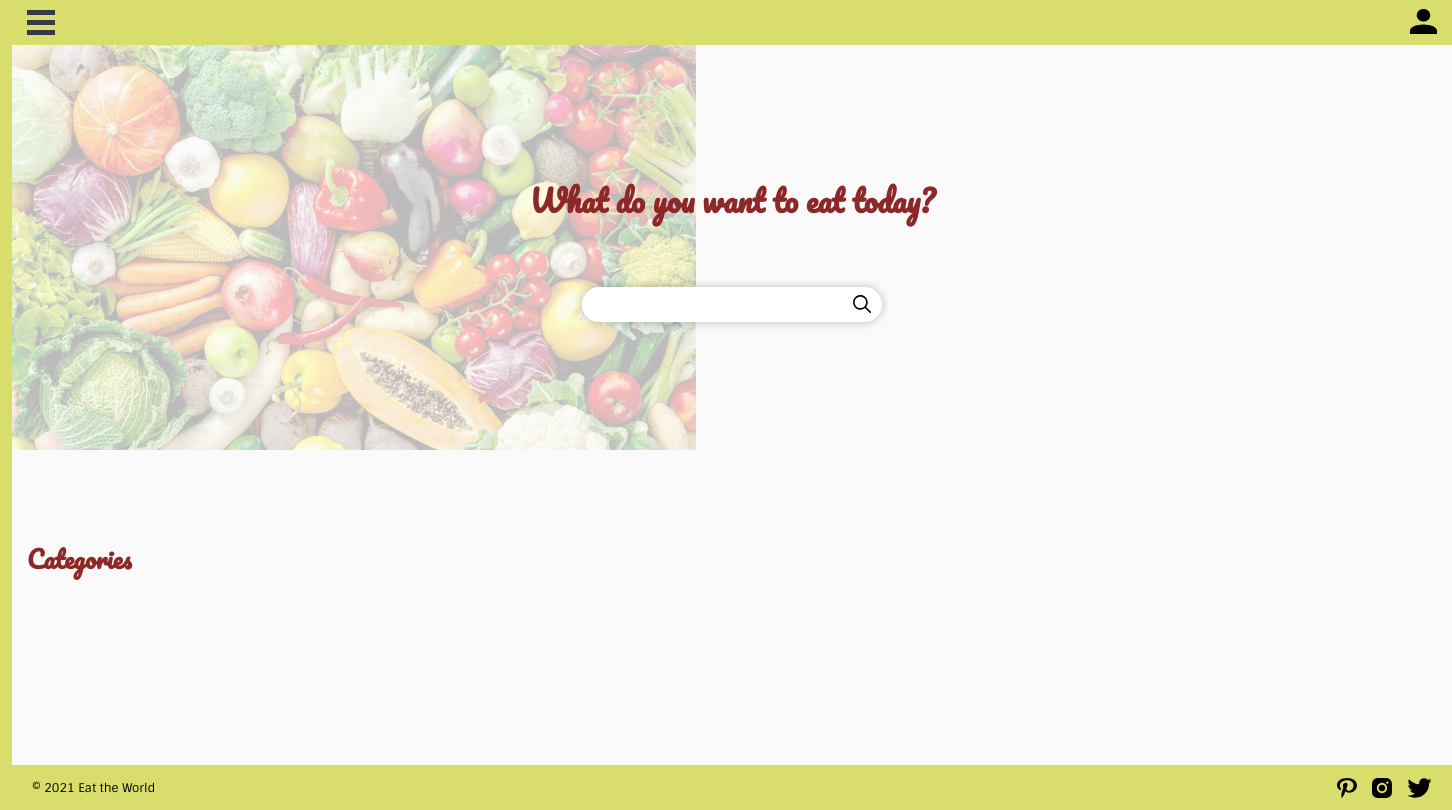
Test: Given the component Search › when a term is searched › then it should show search term
In the field: {"x": 712, "y": 304} [582,286,842,322], type "chicken"
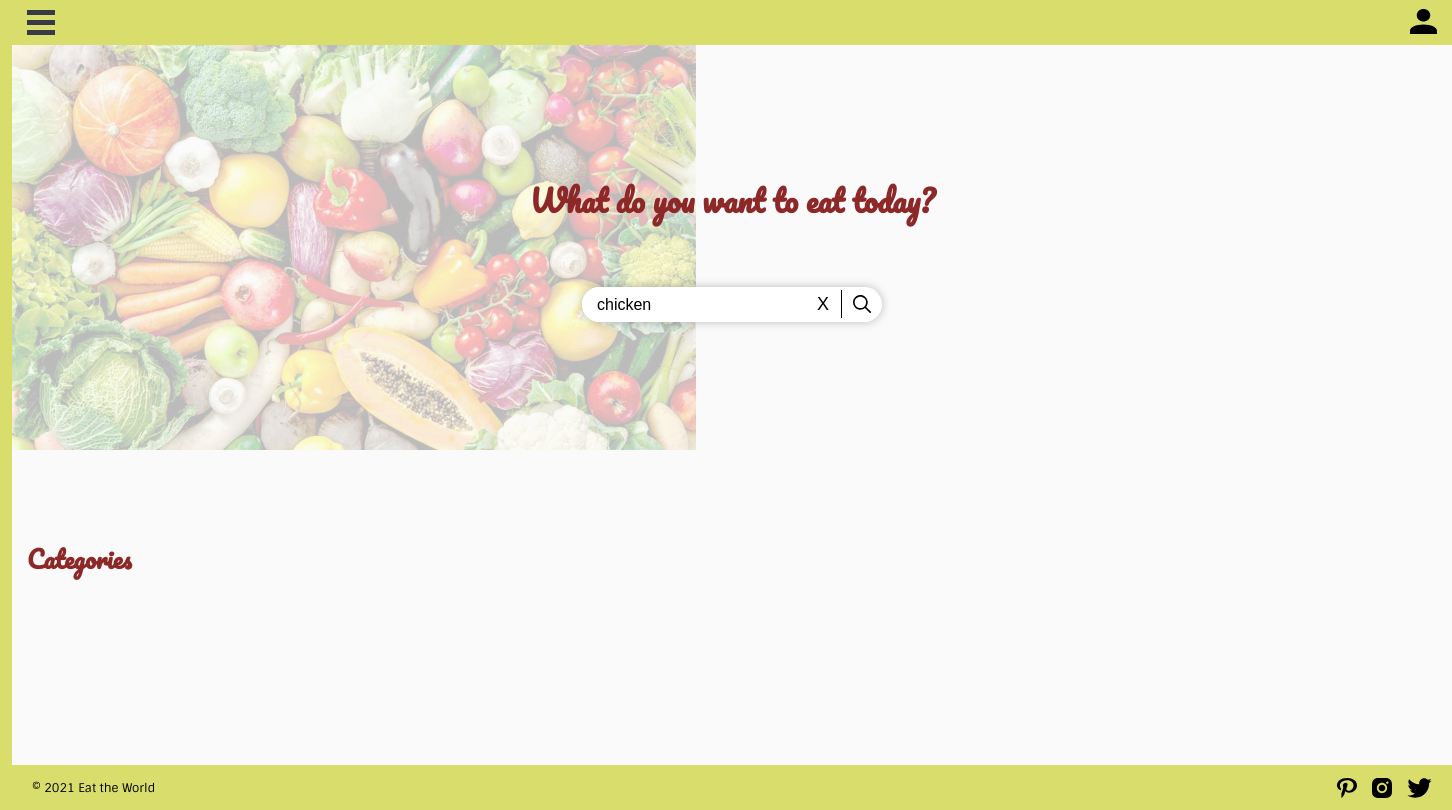
Submit the form, box [582,286,882,322]
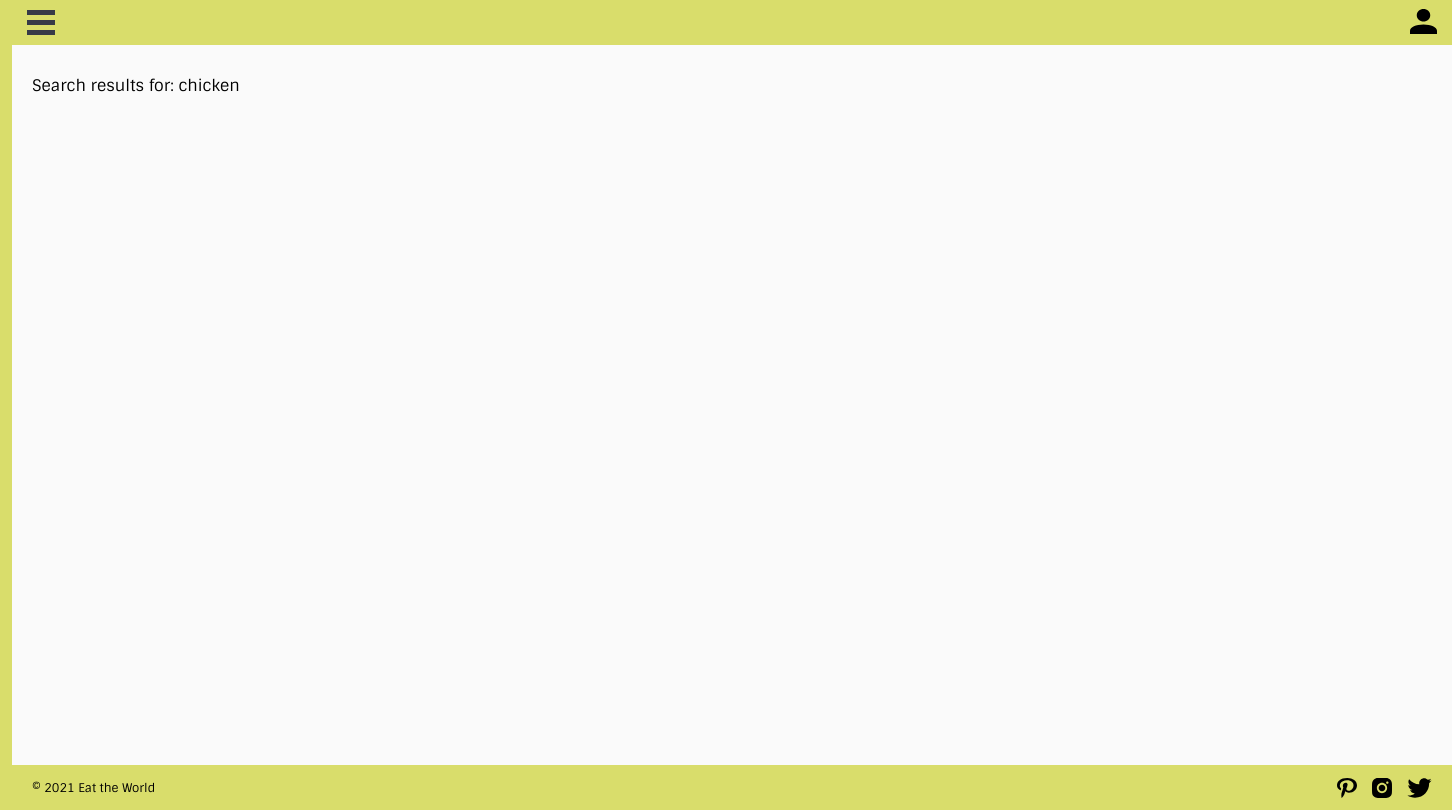
Expected: the text "Search results for: chicken" is shown, [32,75,240,96]
